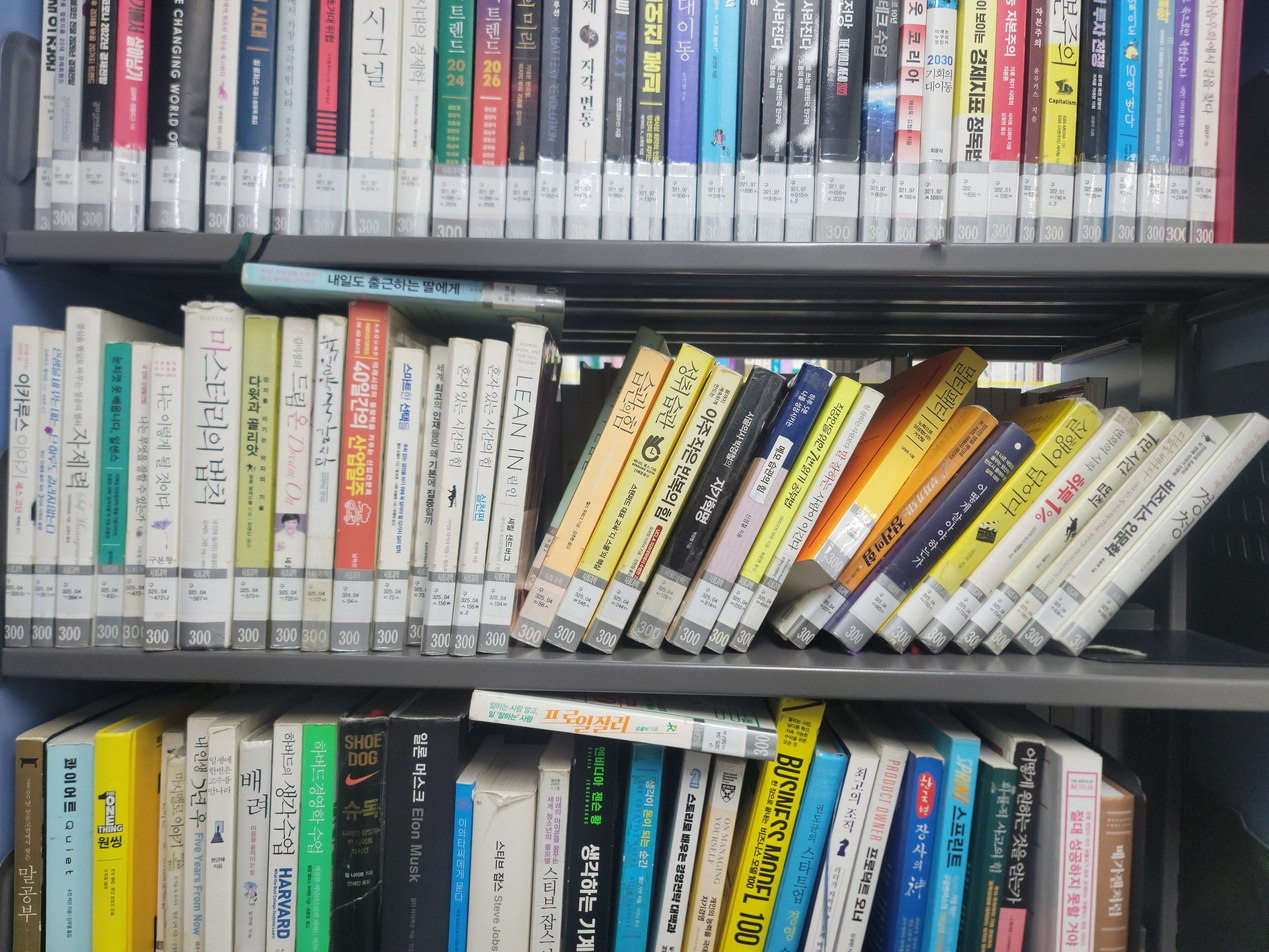book-spine: (864, 397, 1104, 654), (903, 405, 1143, 657), (943, 409, 1175, 657), (1048, 408, 1268, 661), (540, 340, 714, 654), (1006, 417, 1229, 657), (815, 420, 1037, 657), (977, 419, 1194, 657), (503, 343, 671, 649), (665, 360, 836, 656), (580, 360, 744, 655), (620, 363, 786, 651), (703, 374, 862, 654), (728, 384, 884, 654), (774, 452, 960, 649), (830, 341, 989, 558), (525, 326, 653, 582), (175, 303, 242, 651), (477, 326, 546, 653), (329, 300, 390, 652), (450, 336, 509, 656), (423, 338, 479, 654), (53, 305, 102, 648), (371, 348, 425, 652), (229, 316, 278, 650), (243, 261, 565, 311), (267, 317, 315, 650), (299, 315, 346, 652), (405, 347, 450, 646), (143, 347, 183, 652), (92, 343, 131, 647), (3, 326, 39, 647), (29, 331, 65, 646), (120, 345, 153, 647)
